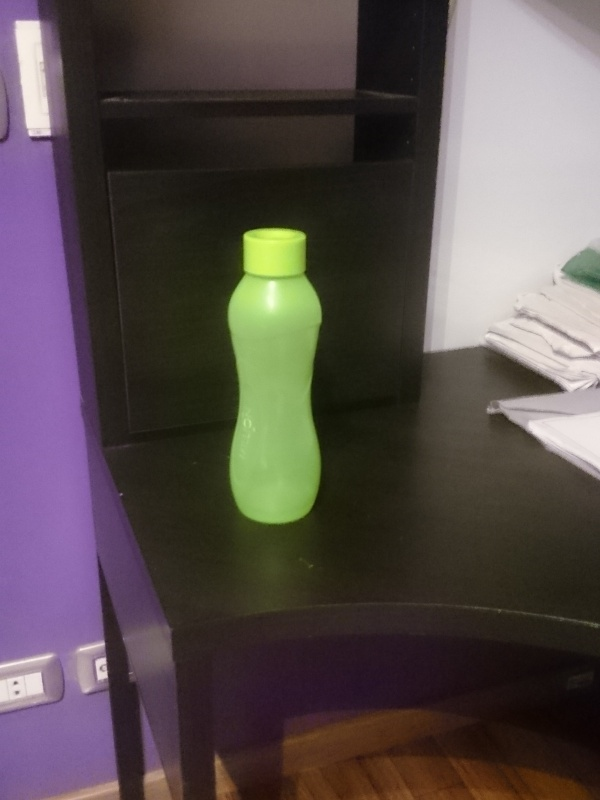my bottle: (223, 228, 324, 525)
